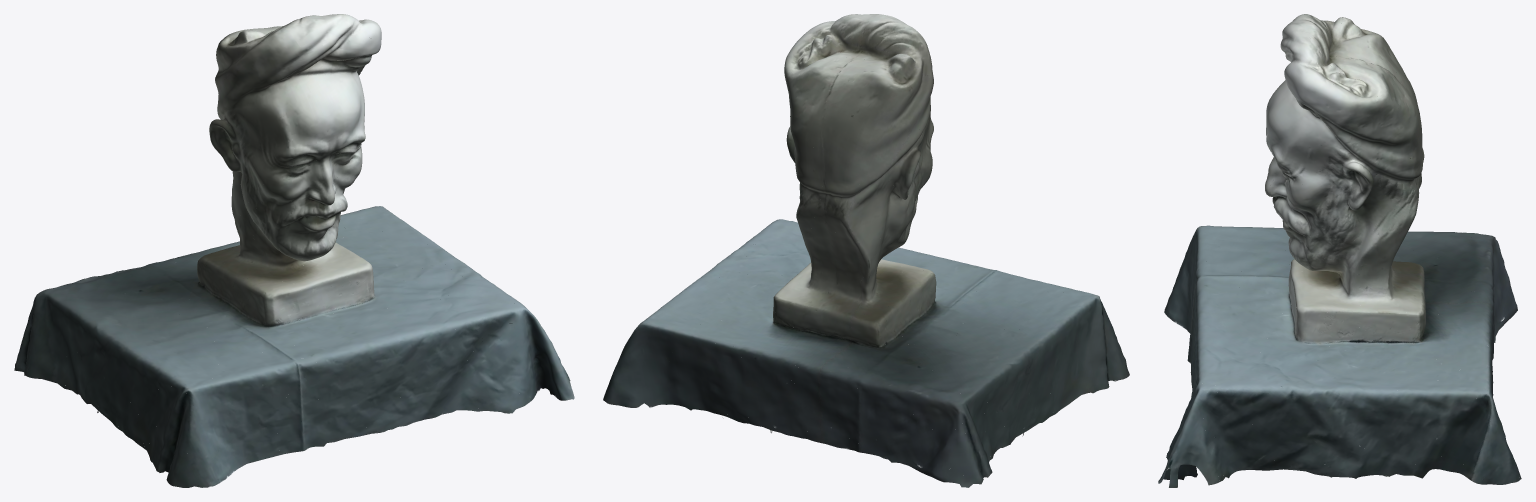
Rendered from 石膏头像_男老年_头巾老人胸像01_opt.glb.
3 views of the same model, side by side, from view 1: azimuth 30°, elevation 25°; view 2: azimuth 150°, elevation 25°; view 3: azimuth 270°, elevation 25° (orthographic). The views are drawn at different scales.
Parts seen in each view (by area): view 1: surfaceShader1SG, surfaceShader1SG_1; view 2: surfaceShader1SG, surfaceShader1SG_1; view 3: surfaceShader1SG, surfaceShader1SG_1.
Part boxes in pixels (bbox=[...]): surfaceShader1SG: bbox=[14, 14, 574, 487]; surfaceShader1SG_1: bbox=[25, 17, 573, 487]; surfaceShader1SG: bbox=[603, 14, 1129, 487]; surfaceShader1SG_1: bbox=[605, 16, 1115, 487]; surfaceShader1SG: bbox=[1158, 14, 1521, 487]; surfaceShader1SG_1: bbox=[1158, 22, 1519, 487].
Size of the model in its own units: 0.3299 by 0.3 by 0.2664.
1 material, 1 textured.
